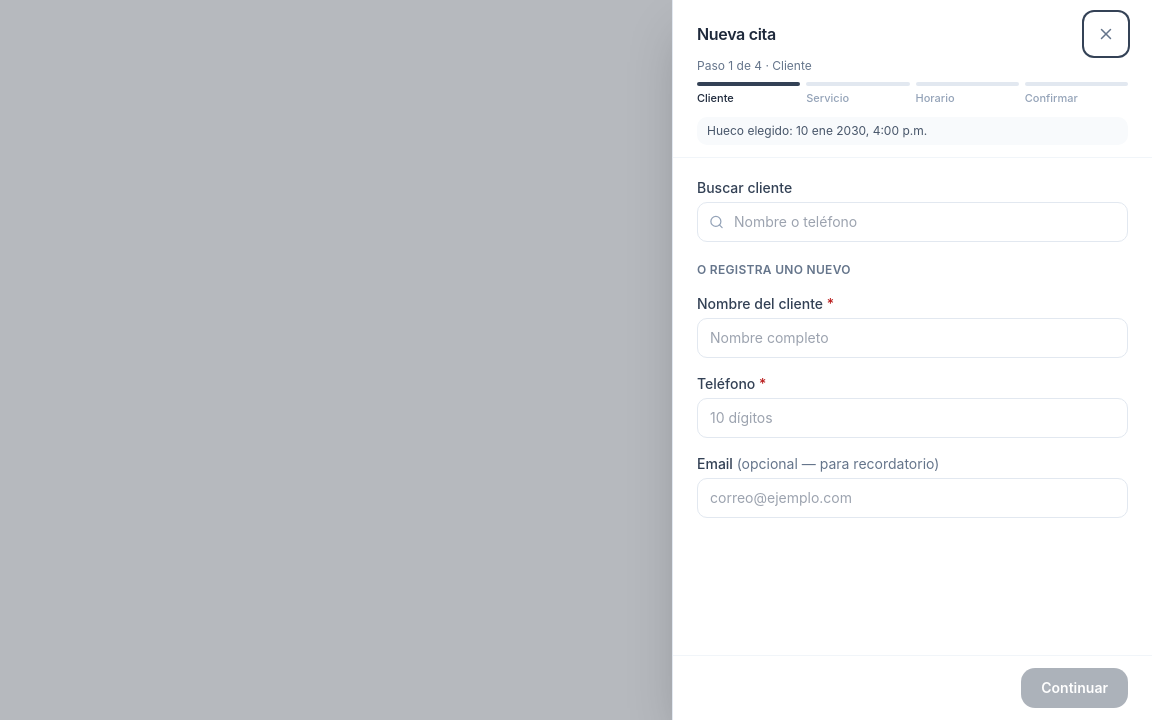
Test: NuevaCitaPanel — precarga desde un hueco (I1) › avisa si la hora del hueco ya no está libre para el servicio y no elige otra
The width and height of the screenshot is (1152, 720).
Type "Luis Pérez" into the field labelled "Nombre del cliente *".
click(912, 338); type("Luis Pérez")  # box left=697, top=318, right=1128, bottom=358
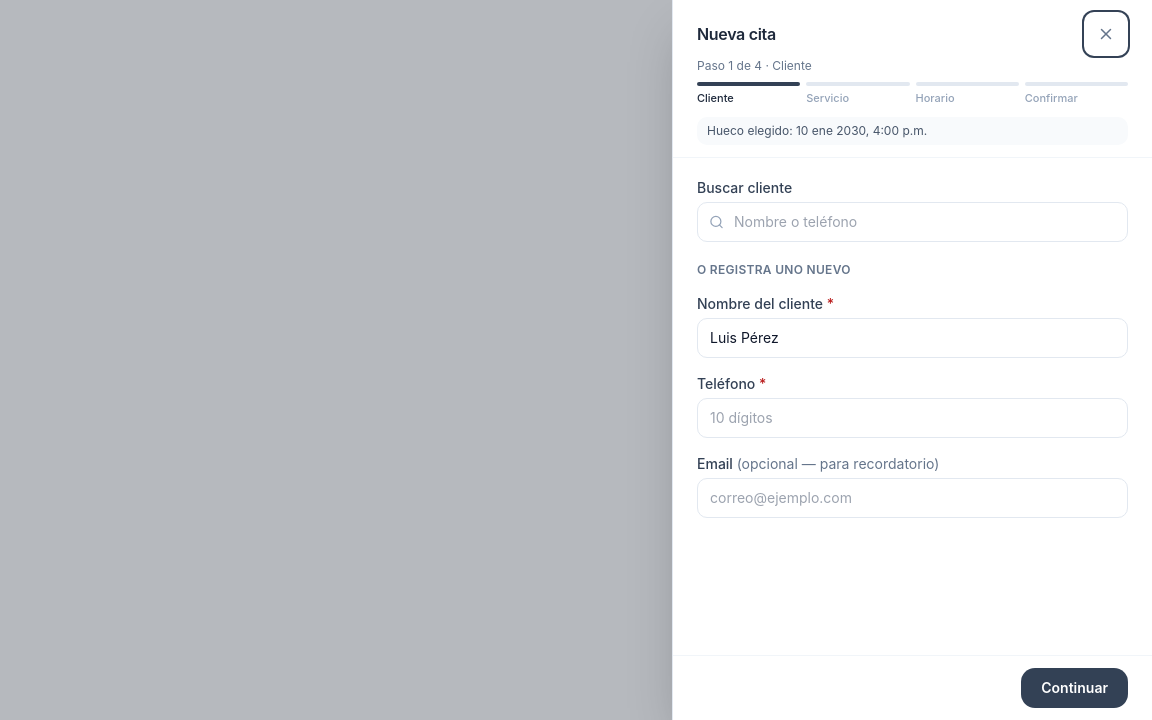
Type "5512345678" into the field labelled "Teléfono *".
click(912, 418); type("5512345678")  # box left=697, top=398, right=1128, bottom=438
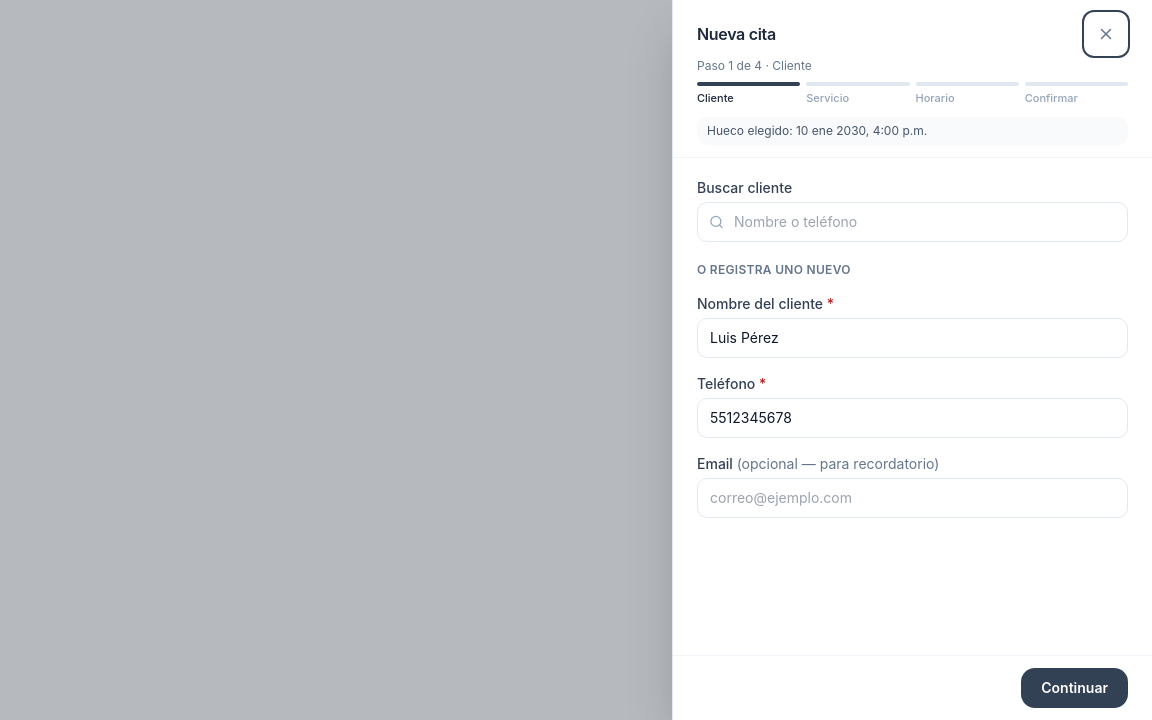
Click the button "Continuar".
click(1075, 688)  # box left=1021, top=668, right=1128, bottom=708
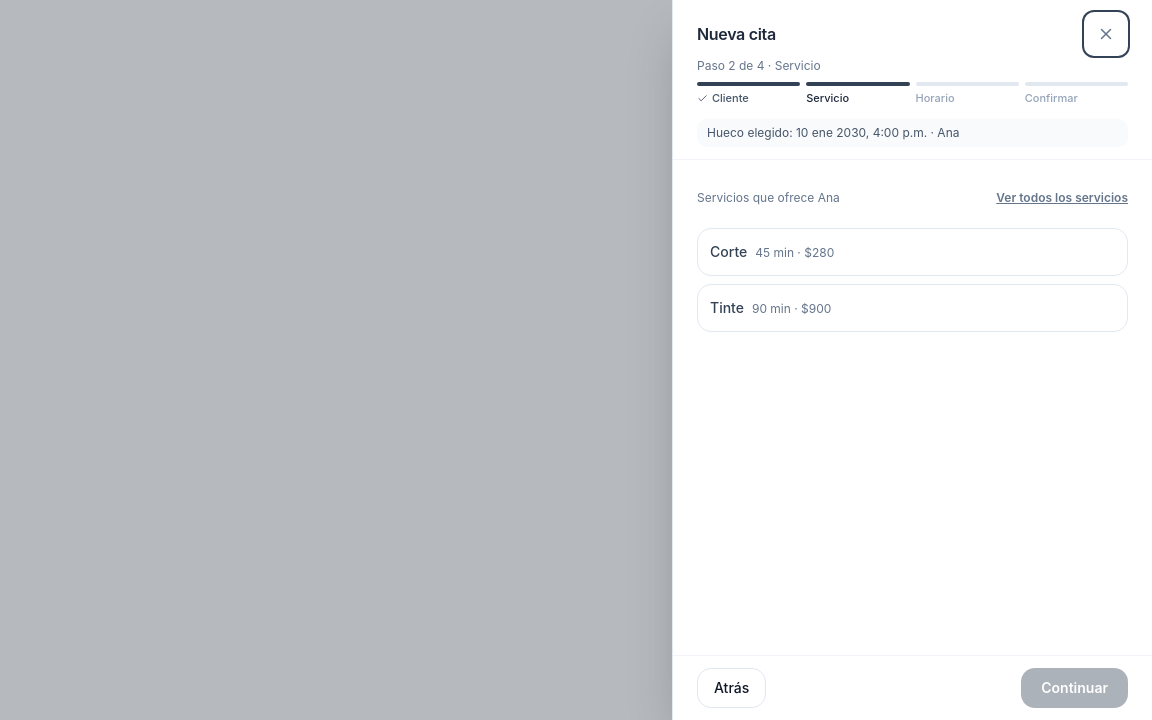
Click the button "Corte45 min · $280".
click(729, 251)  # box left=697, top=228, right=1128, bottom=276
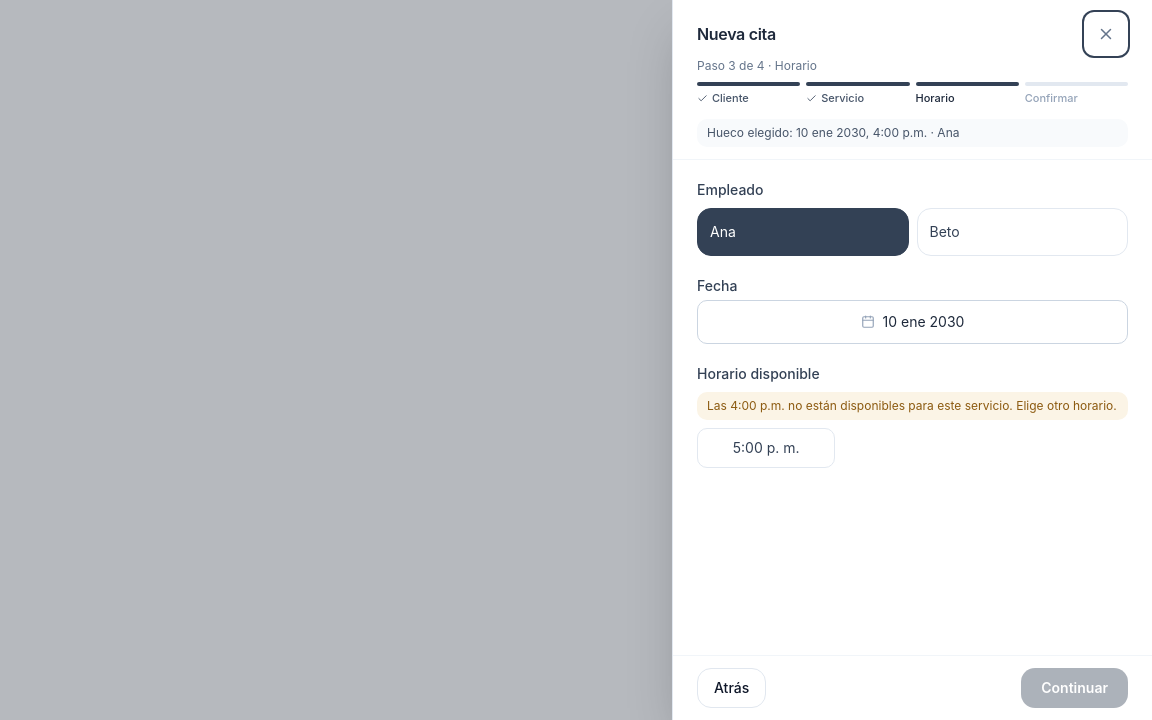
Now the button "Continuar" is disabled, box left=1021, top=668, right=1128, bottom=708
Now the text "Las 4:00 p.m. no están disponibles para este servicio. Elige otro horario." is shown, box left=697, top=392, right=1128, bottom=420
